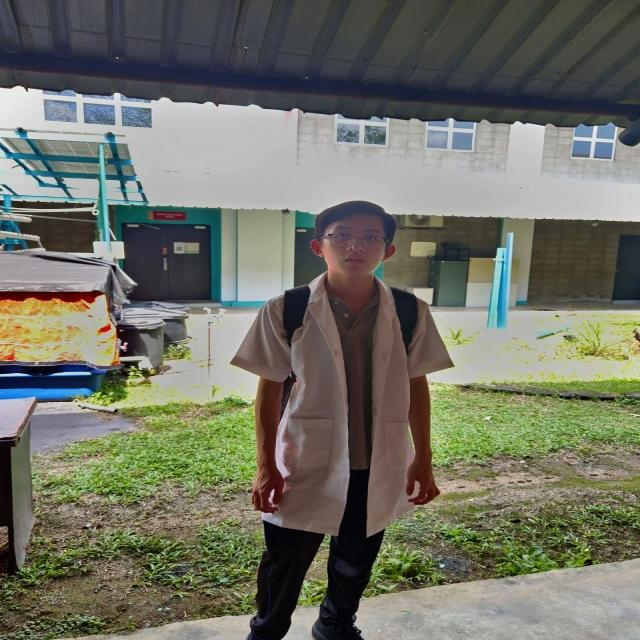person_with_labcoat: (232, 201, 452, 640)
